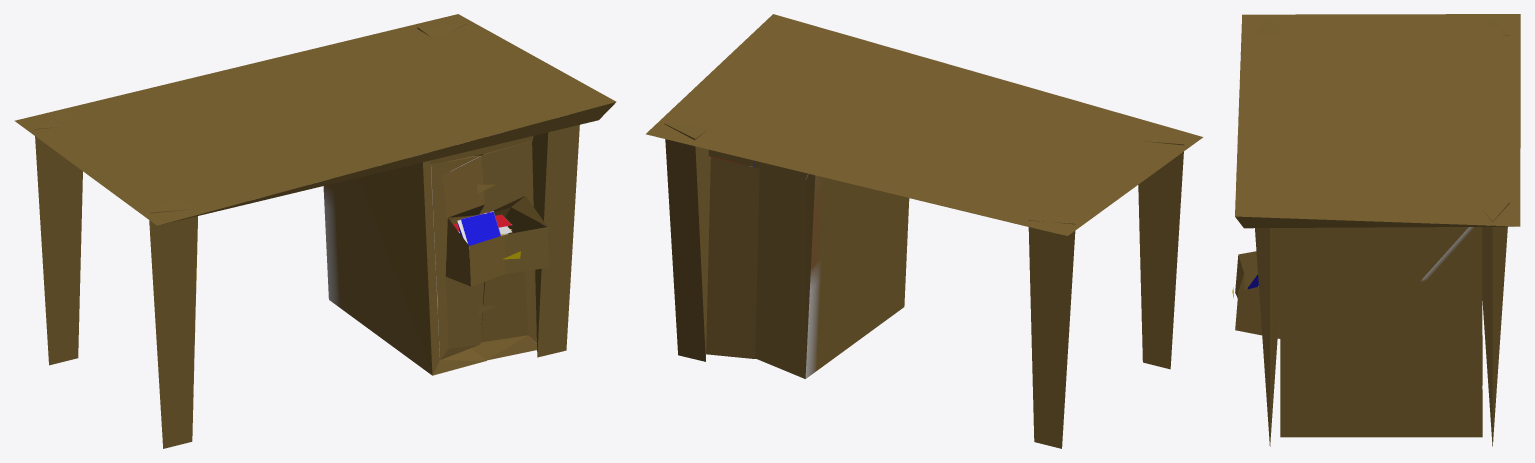
The model's file is 2 DeskLOD.fbx.
The picture shows the model from 3 angles, left to right: view 1: azimuth 30°, elevation 25°; view 2: azimuth 150°, elevation 25°; view 3: azimuth 270°, elevation 25°; orthographic projection. The views are drawn at different scales.
Parts seen in each view (by area): view 1: Cube.001; view 2: Cube.001; view 3: Cube.001.
Part boxes in pixels (left/top/right/bottom): Cube.001: left=14, top=14, right=616, bottom=448; Cube.001: left=646, top=14, right=1203, bottom=448; Cube.001: left=1232, top=14, right=1520, bottom=446.
Size of the model in its own units: 638 by 339 by 358.
1 material, 1 textured.
